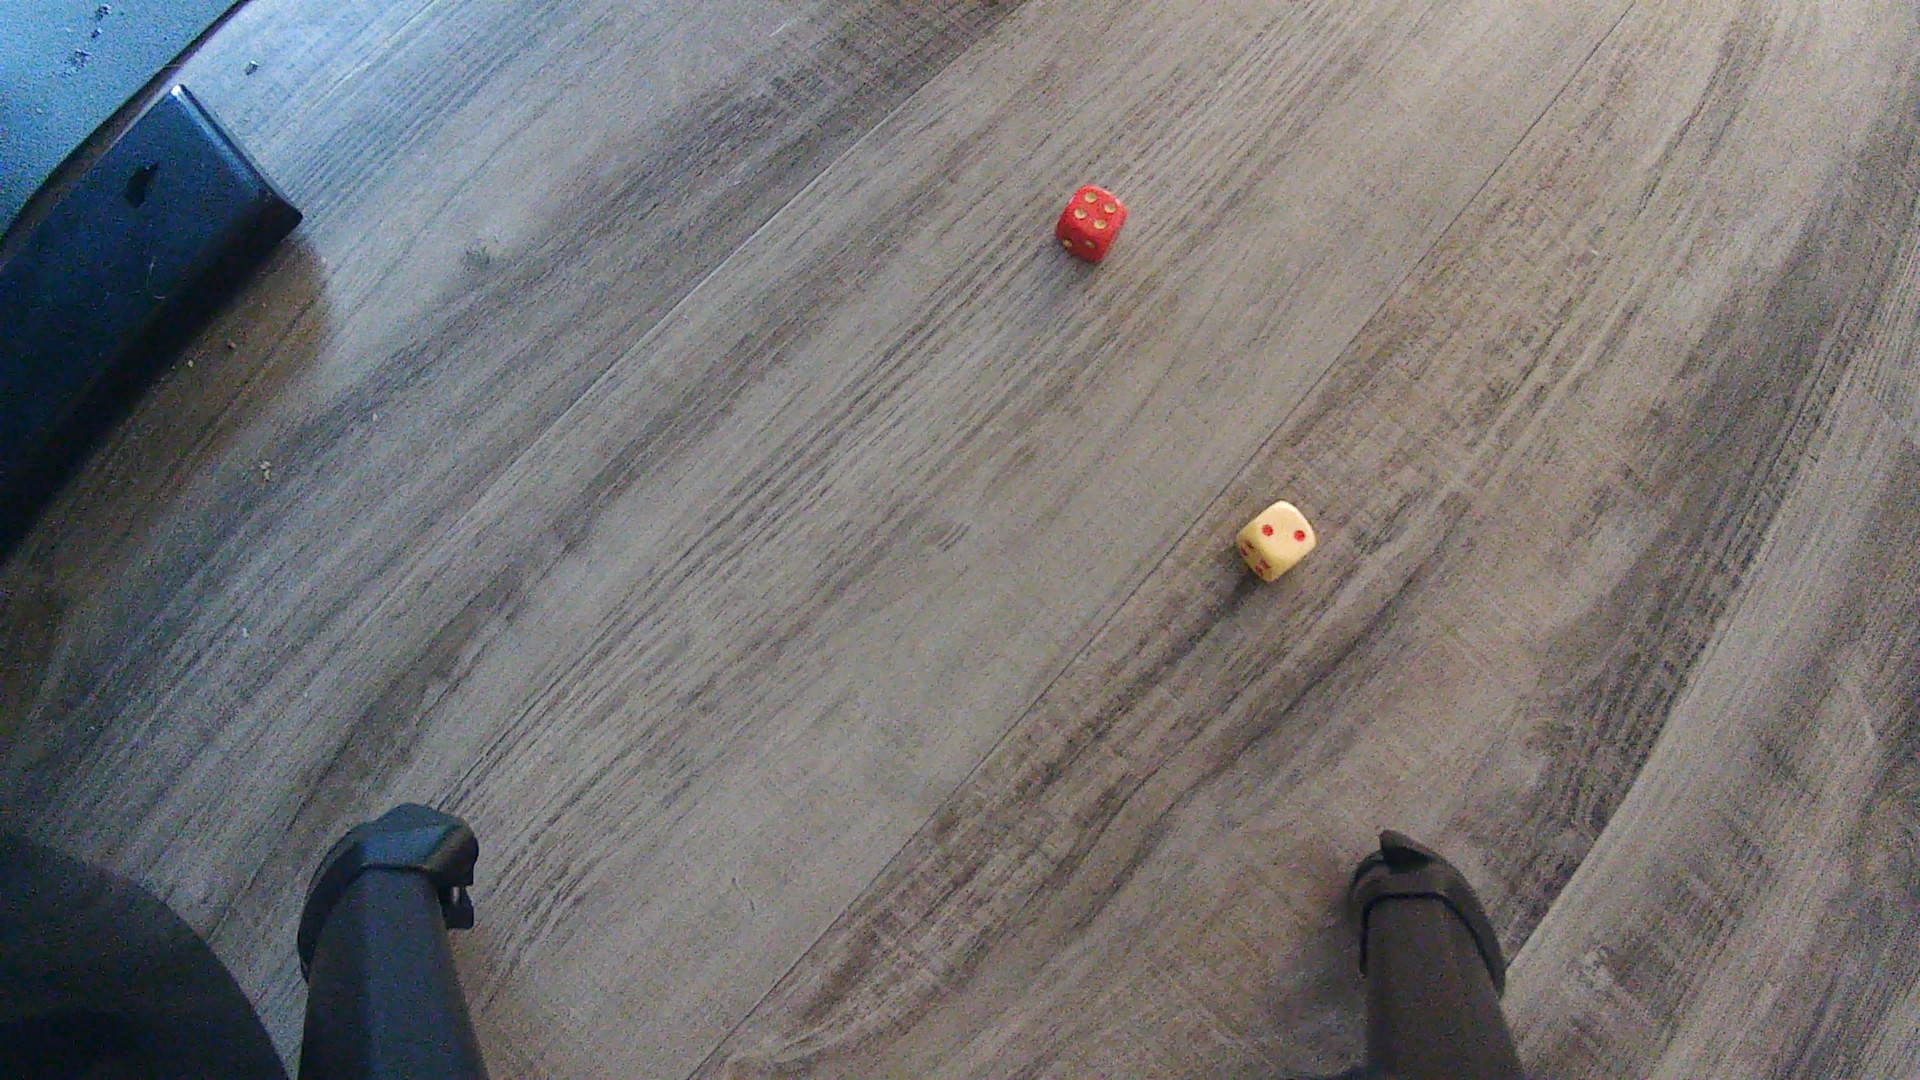die: (1236, 498, 1317, 587), (1056, 185, 1130, 265)
